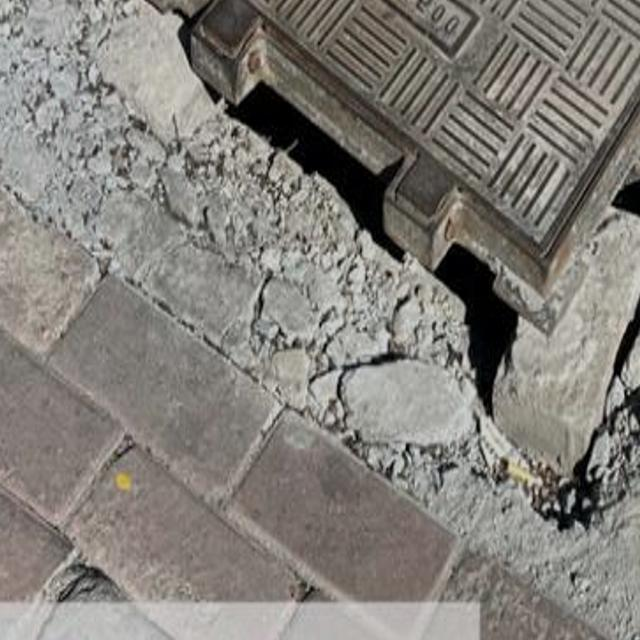circle: (0, 0, 640, 553)
